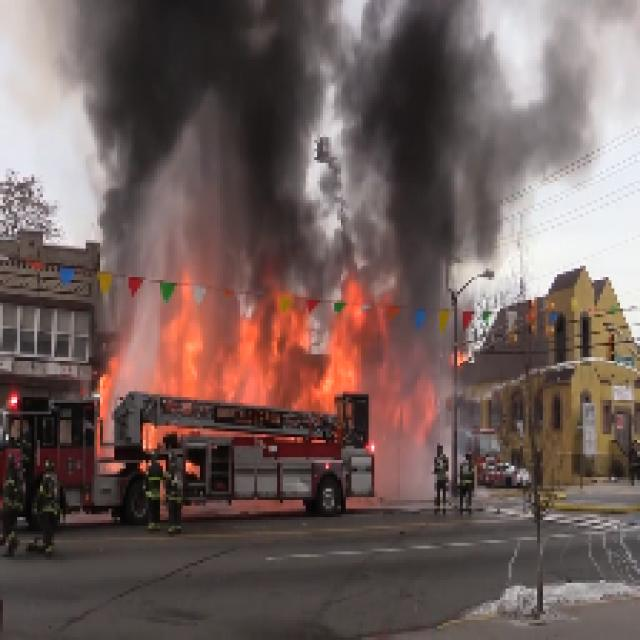smoke: (99, 15, 285, 284), (384, 48, 465, 284)
